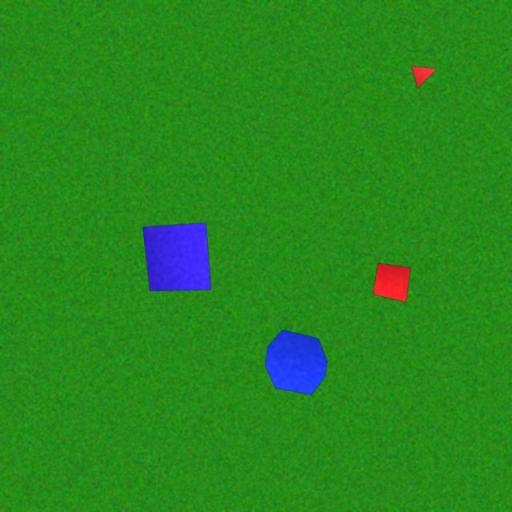BLUE_SQUARE: (142, 222, 212, 292)
RED_SQUARE: (373, 262, 411, 302)
